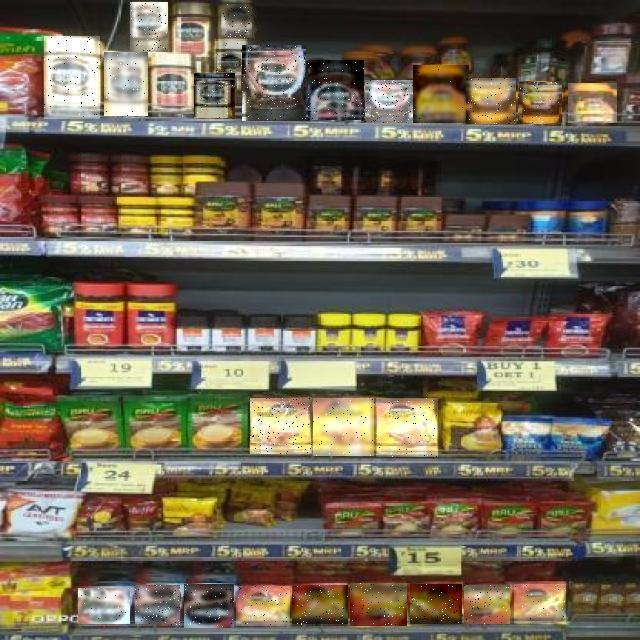Coffee: (242, 45, 306, 121), (45, 36, 101, 119), (377, 398, 439, 457), (314, 398, 376, 456), (251, 398, 313, 454), (308, 60, 364, 120), (413, 65, 469, 123), (104, 52, 148, 116), (350, 583, 407, 626), (467, 78, 517, 124), (292, 586, 348, 626), (184, 584, 234, 628), (236, 586, 290, 626), (514, 584, 566, 624), (410, 585, 462, 625), (365, 80, 413, 123), (568, 83, 617, 123), (130, 2, 168, 52), (194, 73, 235, 119), (78, 588, 130, 624), (518, 82, 562, 124), (135, 586, 180, 626), (465, 585, 511, 624), (216, 38, 246, 74), (222, 4, 252, 38)
